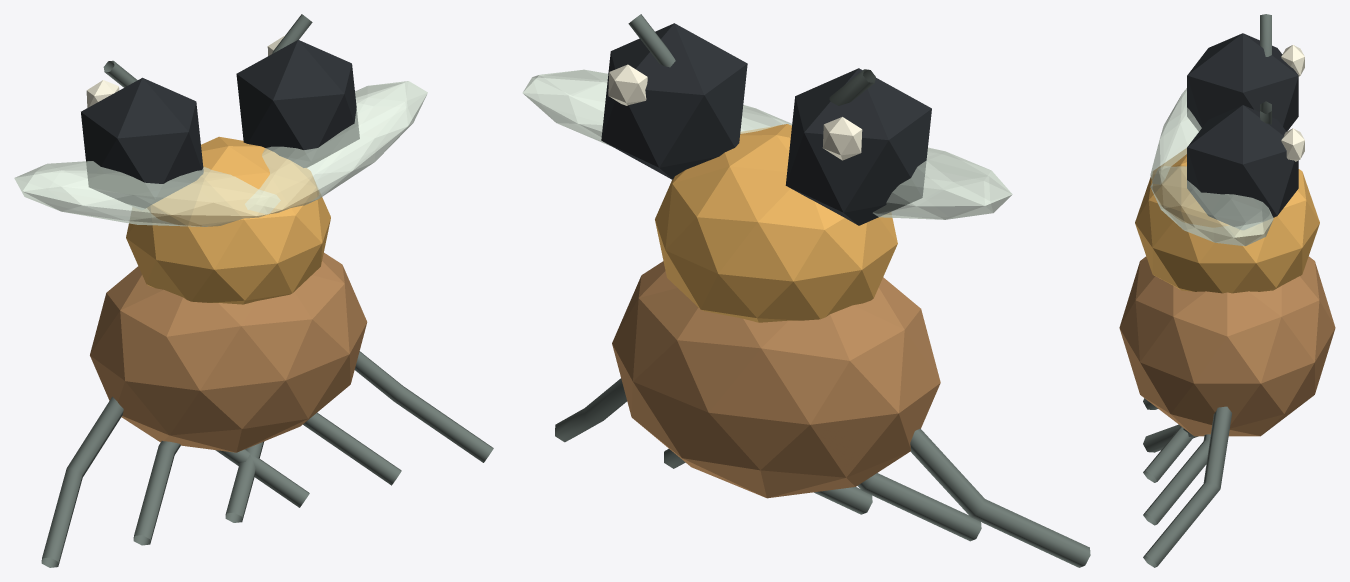
File: food_fruit_fly.glb
The picture shows the model from 3 angles, left to right: view 1: azimuth 30°, elevation 25°; view 2: azimuth 150°, elevation 25°; view 3: azimuth 270°, elevation 25°; orthographic projection. The views are drawn at different scales.
Visible parts, largest first — view 1: Fruit fly | abdomen, Fruit fly | thorax, Eye, Eye.001, Wing L, Wing R, Leg 00, Leg 05, Leg 02, Leg 03, Leg 01, Leg 04; view 2: Fruit fly | abdomen, Fruit fly | thorax, Eye, Eye.001, Wing L, Leg 00, Wing R, Leg 02, Leg 05, Eye highlight, Eye highlight.001, Antenna R (+2 smaller); view 3: Fruit fly | abdomen, Fruit fly | thorax, Eye.001, Eye, Wing R, Leg 05, Wing L, Leg 03, Leg 01, Leg 04, Eye highlight.001, Eye highlight (+1 smaller).
Part boxes in pixels (box(x1,y1,x2,y2)): Fruit fly | abdomen: box(90, 253, 367, 452); Fruit fly | thorax: box(126, 136, 330, 304); Eye: box(81, 77, 203, 209); Eye.001: box(236, 39, 359, 167); Wing L: box(14, 161, 280, 226); Wing R: box(245, 81, 427, 214); Leg 00: box(41, 396, 123, 567); Leg 05: box(354, 351, 493, 462); Leg 02: box(133, 441, 180, 545); Leg 03: box(303, 412, 401, 485); Leg 01: box(215, 449, 309, 507); Leg 04: box(225, 441, 264, 522); Fruit fly | abdomen: box(612, 261, 940, 498); Fruit fly | thorax: box(655, 124, 897, 322); Eye: box(785, 68, 931, 225); Eye.001: box(601, 23, 747, 179); Wing L: box(873, 147, 1012, 219); Leg 00: box(910, 428, 1090, 567); Wing R: box(522, 69, 792, 146); Leg 02: box(857, 473, 981, 541); Leg 05: box(555, 378, 626, 442); Eye highlight: box(822, 117, 862, 160); Eye highlight.001: box(608, 64, 647, 105); Antenna R: box(628, 14, 675, 67); Fruit fly | abdomen: box(1119, 256, 1335, 436); Fruit fly | thorax: box(1135, 148, 1319, 293); Eye.001: box(1187, 105, 1298, 229); Eye: box(1187, 33, 1298, 131); Wing R: box(1150, 166, 1273, 246); Leg 05: box(1143, 406, 1232, 567); Wing L: box(1150, 88, 1201, 184); Leg 03: box(1143, 434, 1210, 525); Leg 01: box(1143, 426, 1193, 482); Leg 04: box(1143, 424, 1198, 452); Eye highlight.001: box(1281, 128, 1304, 161); Eye highlight: box(1281, 45, 1304, 76).
Size of the model in its own units: 0.6387 by 0.5865 by 0.28.
